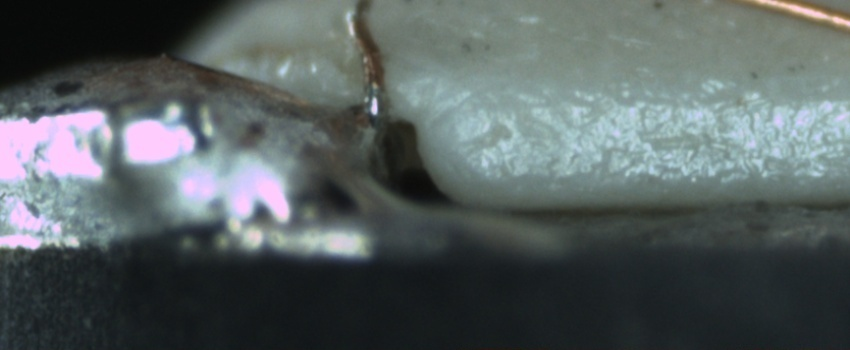DL: (538, 70, 849, 131)
